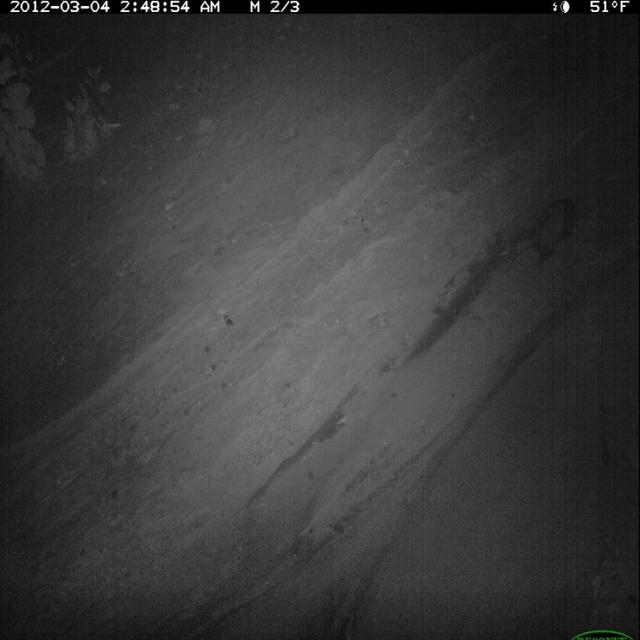opossum: (506, 191, 587, 277)
